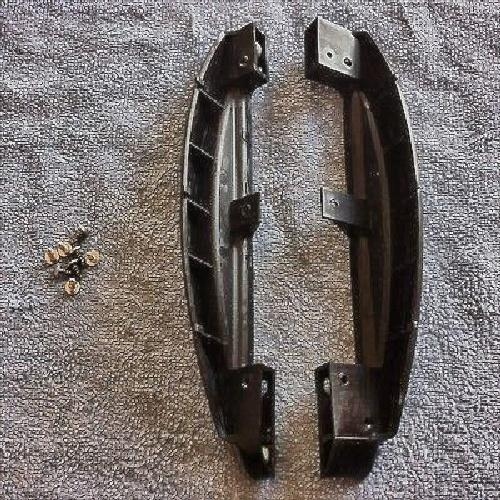toaster: (199, 19, 404, 467)
